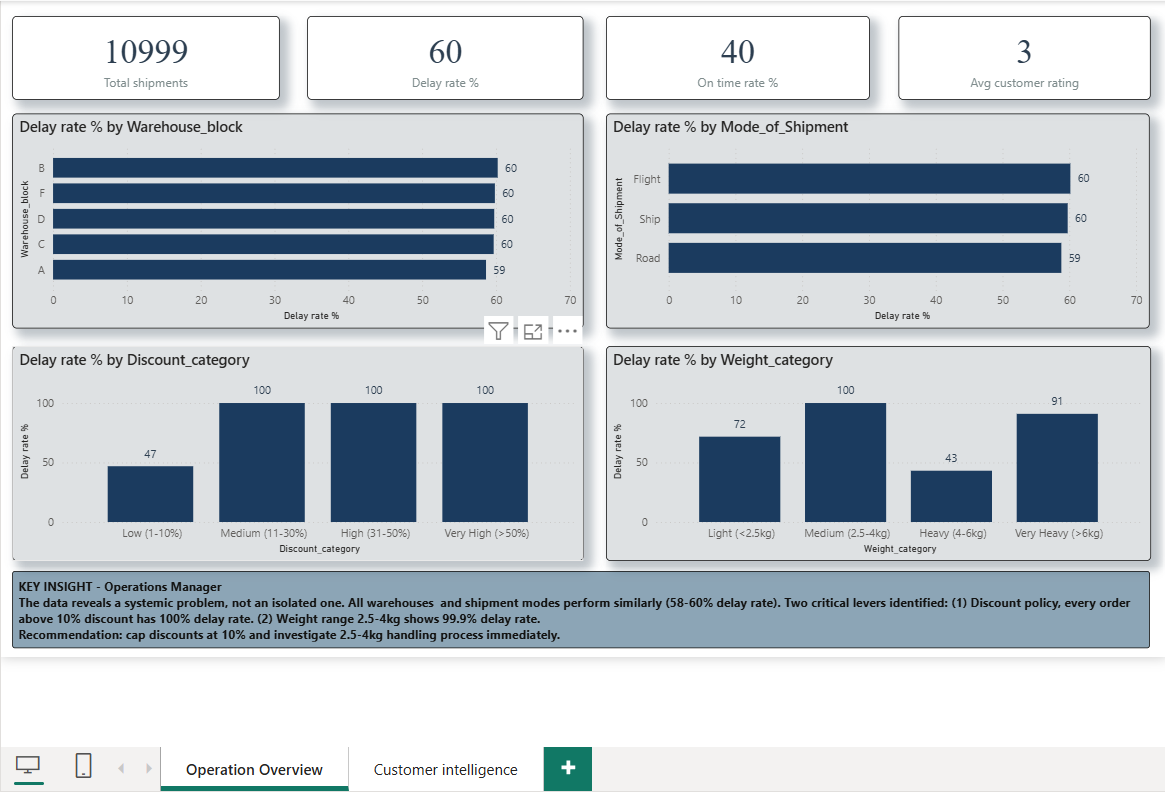

This screenshot's page, from the dashboard's own definition file:
{"tool":"powerbi","page":{"name":"Operation Overview","canvas":[1280,720],"ordinal":0},"visuals":[{"type":"card","fields":{"Values":["E-commerce data.Total shipments"]},"box":[12.3,16.5,293.7,91.9],"z":0},{"type":"card","fields":{"Values":["E-commerce data.Delay rate %"]},"box":[336.2,16.5,303.3,91.9],"z":1},{"type":"card","fields":{"Values":["E-commerce data.On time rate %"]},"box":[664.2,16.5,289.5,91.9],"z":2},{"type":"card","fields":{"Values":["E-commerce data.Avg customer rating"]},"box":[985.3,16.5,277.2,91.9],"z":3},{"type":"clusteredBarChart","fields":{"Category":["E-commerce data.Warehouse_block"],"Y":["E-commerce data.Delay rate %"]},"box":[12.3,123.5,627.1,236],"z":4},{"type":"clusteredBarChart","fields":{"Y":["E-commerce data.Delay rate %"],"Category":["E-commerce data.Mode_of_Shipment"]},"box":[664.2,123.5,596.9,236],"z":5},{"type":"clusteredColumnChart","fields":{"Y":["E-commerce data.Delay rate %"],"Category":["E-commerce data.Discount_category"]},"box":[12.3,378.7,627.1,236],"z":6},{"type":"clusteredColumnChart","fields":{"Y":["E-commerce data.Delay rate %"],"Category":["E-commerce data.Weight_category"]},"box":[664.2,378.7,598.3,236],"z":7},{"type":"textbox","box":[12.3,625.7,1248.7,85.1],"z":8}]}

Visuals, with their boxes on the page's 1280x720 design canvas (x1, y1, x2, y2). These are canvas units, not pixel positions in the 1165x792 screenshot, which may show the page scaled, cropped or inside an application window:
card - E-commerce data.Total shipments: bbox=(12, 16, 306, 108)
card - E-commerce data.Delay rate %: bbox=(336, 16, 640, 108)
card - E-commerce data.On time rate %: bbox=(664, 16, 954, 108)
card - E-commerce data.Avg customer rating: bbox=(985, 16, 1262, 108)
clusteredBarChart - E-commerce data.Warehouse_block x E-commerce data.Delay rate %: bbox=(12, 124, 639, 360)
clusteredBarChart - E-commerce data.Delay rate % x E-commerce data.Mode_of_Shipment: bbox=(664, 124, 1261, 360)
clusteredColumnChart - E-commerce data.Delay rate % x E-commerce data.Discount_category: bbox=(12, 379, 639, 615)
clusteredColumnChart - E-commerce data.Delay rate % x E-commerce data.Weight_category: bbox=(664, 379, 1262, 615)
textbox: bbox=(12, 626, 1261, 711)
